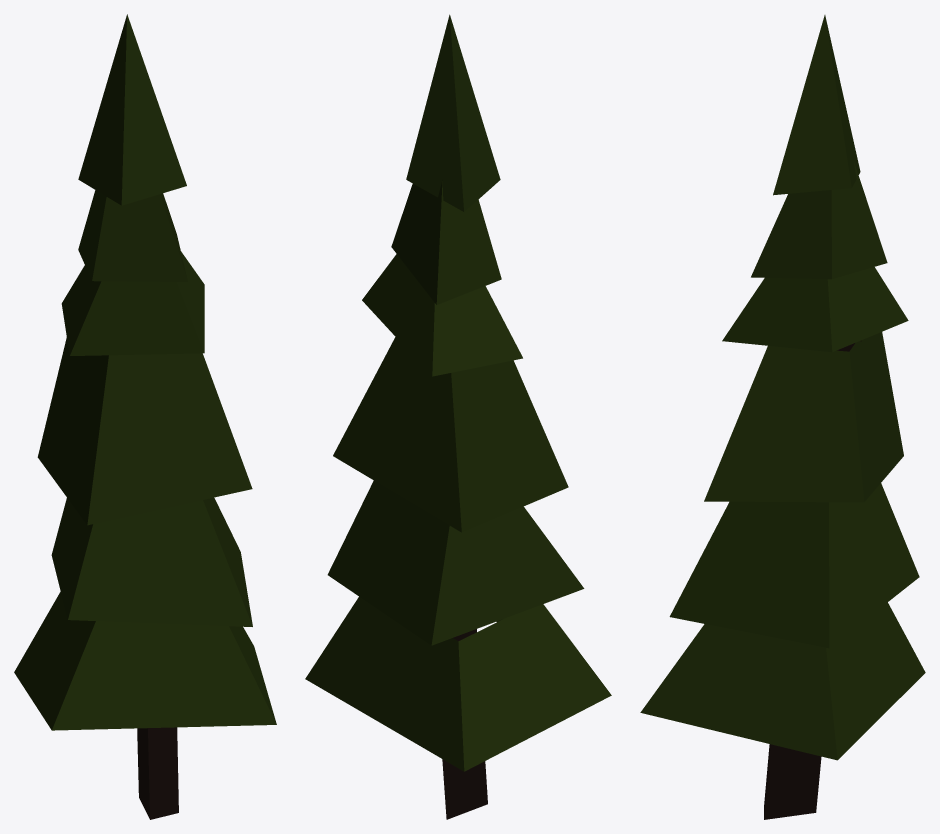
The model's file is L3PINE_02.obj.
3 views of the same model, side by side, from view 1: azimuth 30°, elevation 25°; view 2: azimuth 150°, elevation 25°; view 3: azimuth 270°, elevation 25° (orthographic). The views are drawn at different scales.
Visible parts, largest first — view 1: Cylinder.003, Cylinder.004; view 2: Cylinder.003, Cylinder.004; view 3: Cylinder.003, Cylinder.004.
Part boxes in pixels (x1,y1,x2,y2): Cylinder.003: (14,14,276,730); Cylinder.004: (137,727,178,819); Cylinder.003: (305,14,611,771); Cylinder.004: (442,629,487,819); Cylinder.003: (640,15,925,760); Cylinder.004: (764,340,861,819).
Size of the model in its own units: 2.51 by 7.52 by 2.45.
